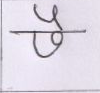ai_matra: (33, 3, 69, 31)
